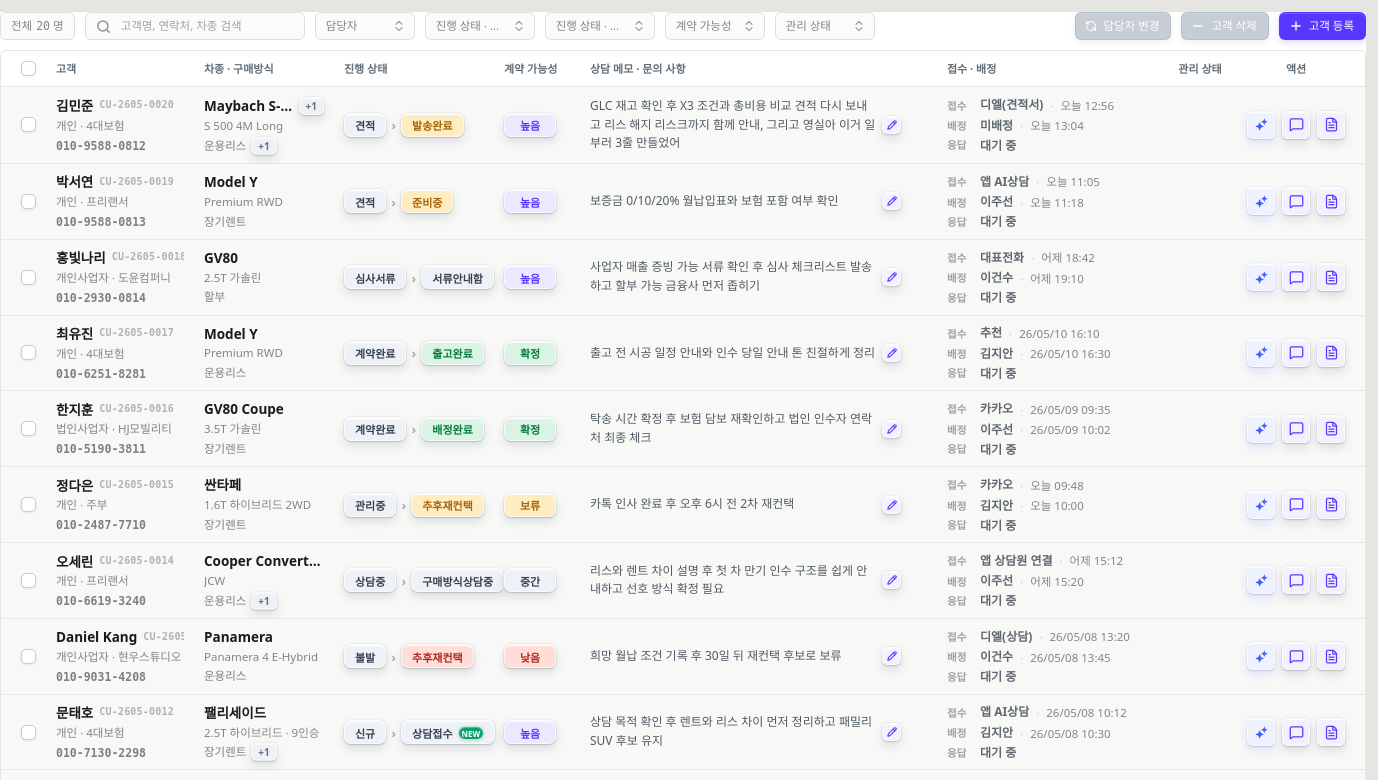
Test: CustomerManagementPage › chance 팝오버를 열면 열려 있던 +N 말풍선이 닫힌다(형제 토글 대칭)
Click the button named "추가 차종 보기": (311, 106) [298,97,324,115]
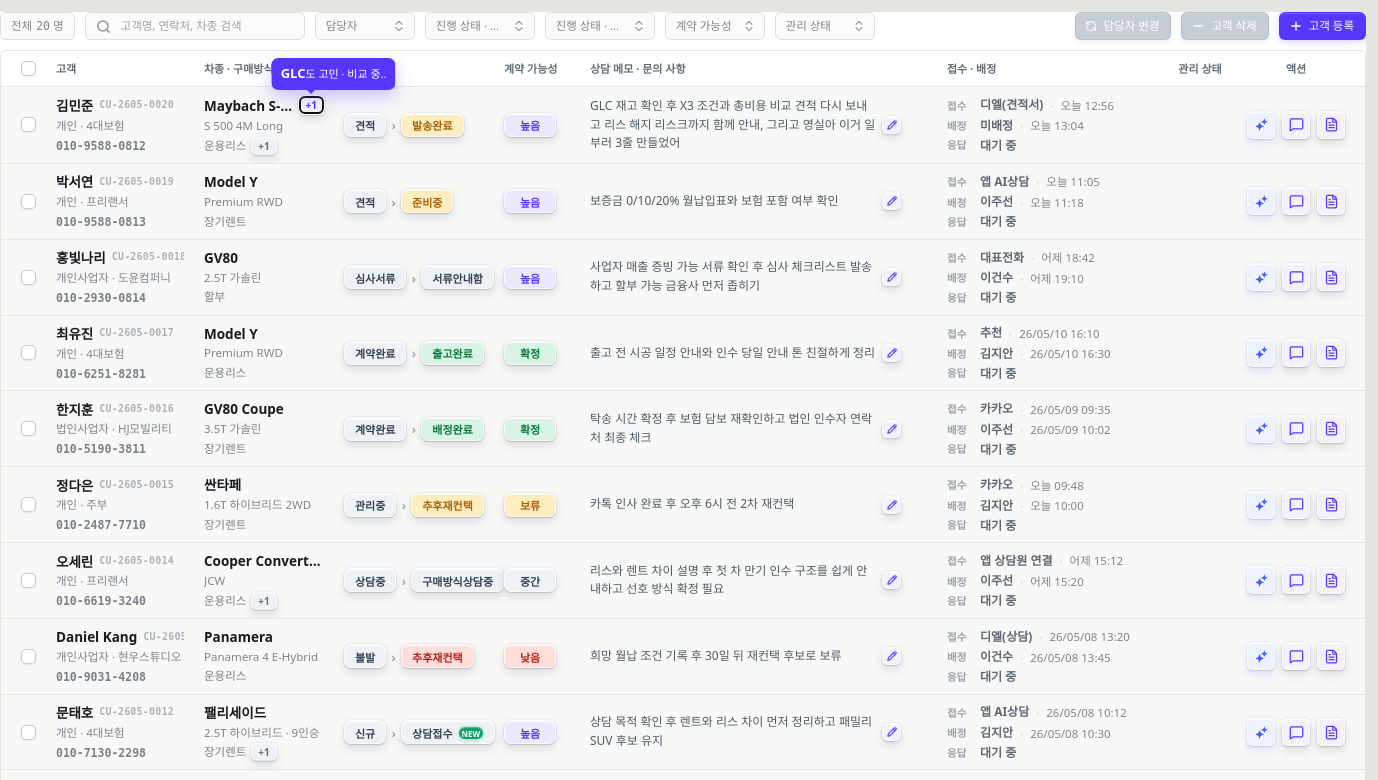
Expected: the button with aria-label "추가 차종 보기" is expanded, [298,96,324,114]
Click the button with aria-label "가능성 변경": (530, 125) [504,113,556,137]
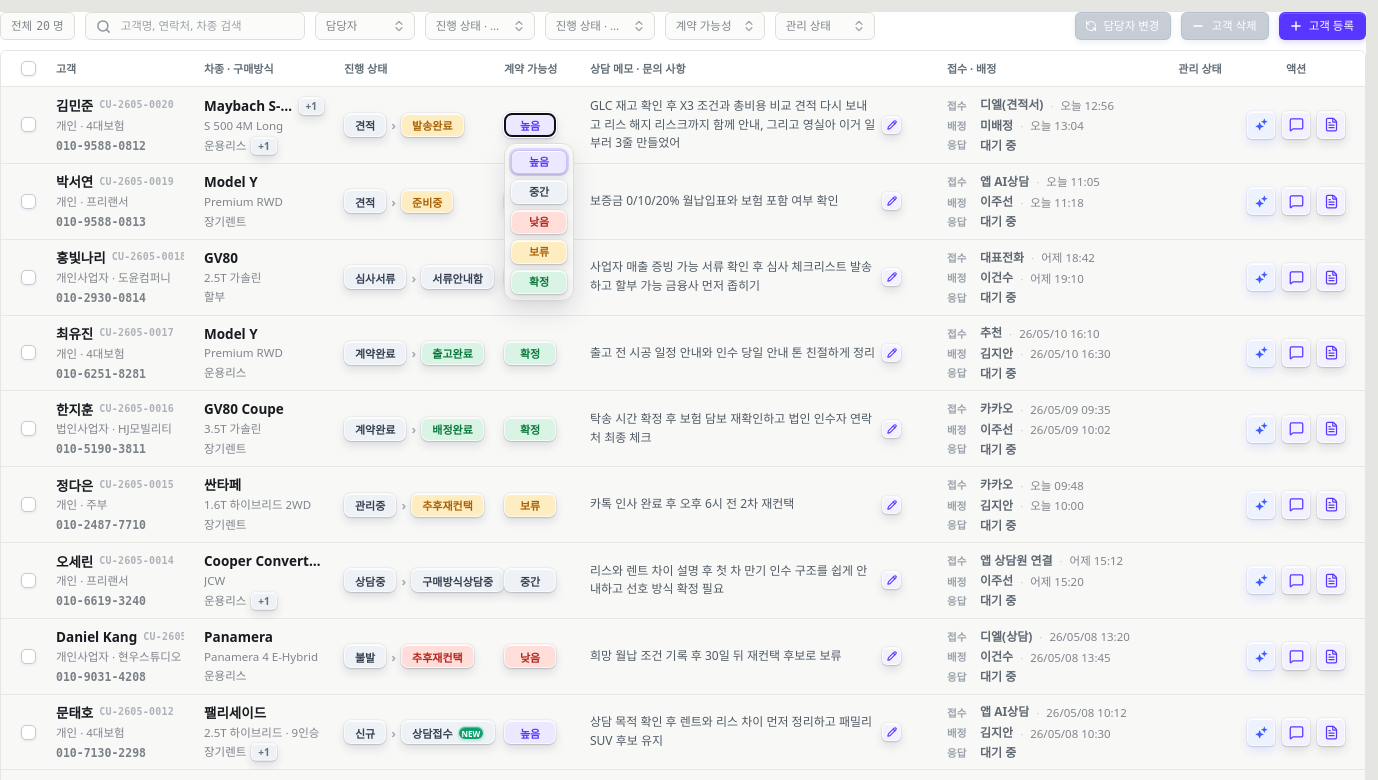
Expected: the list named "가능성 선택" is shown, [504,143,574,301]
Expected: the button named "추가 차종 보기" is collapsed, [298,97,324,115]
